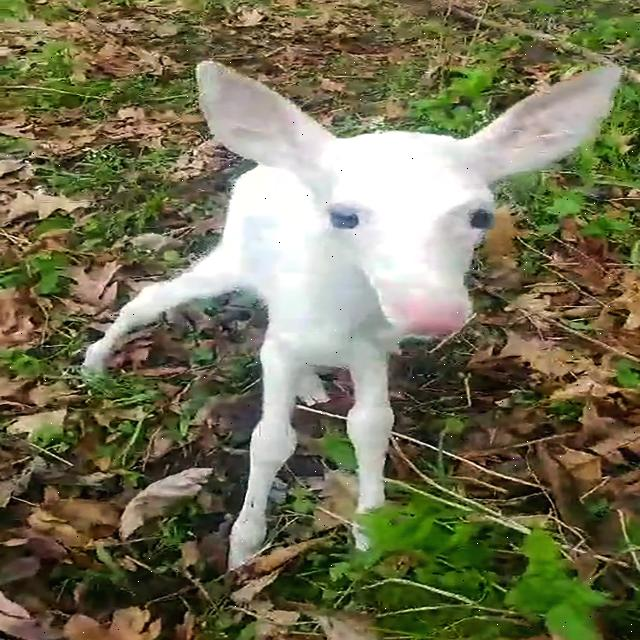deer: (154, 57, 636, 367)
